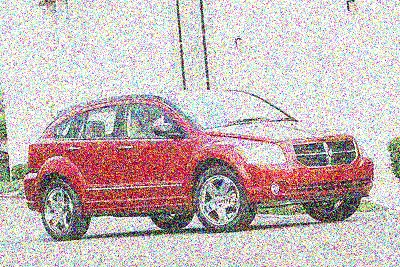car: (11, 74, 385, 246)
